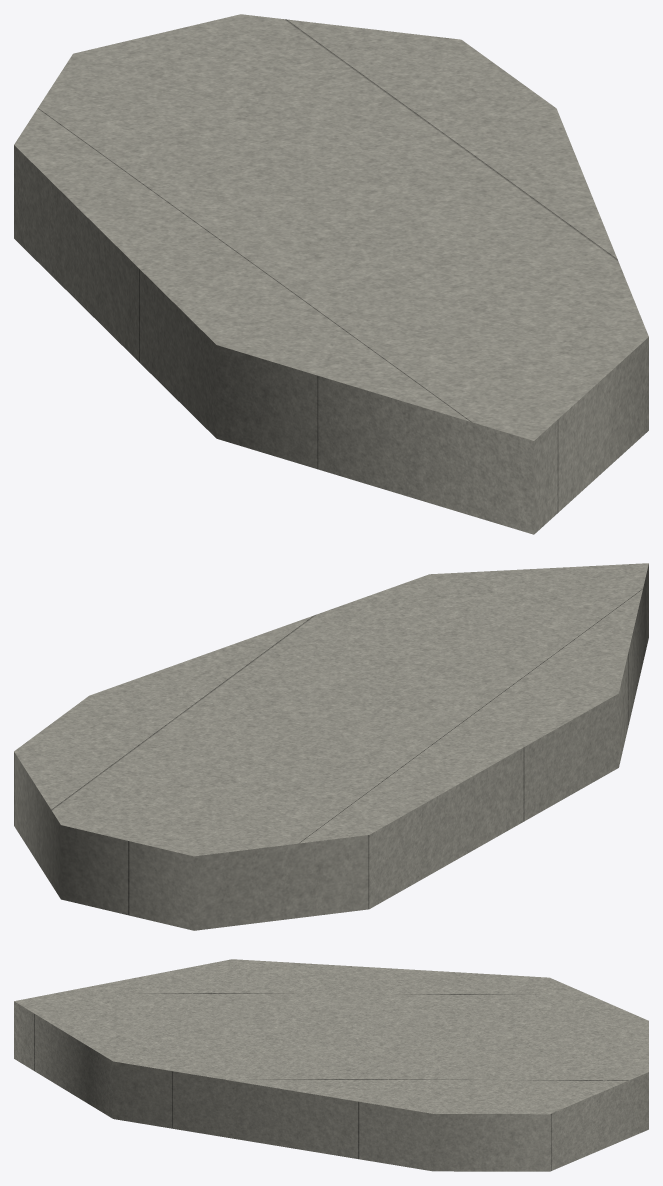
Rendered from curb_12.gltf.
3 renders of one model, top to bottom at view 1: azimuth 30°, elevation 25°; view 2: azimuth 150°, elevation 25°; view 3: azimuth 270°, elevation 25°, orthographic. The views are drawn at different scales.
Parts seen in each view (by area): view 1: curb_12.surface, curb_12.sides; view 2: curb_12.surface, curb_12.sides; view 3: curb_12.surface, curb_12.sides.
Boxes of the visible parts, box(x1,y1,x2,y2) form: curb_12.surface: box(14, 14, 648, 440); curb_12.sides: box(14, 145, 648, 534); curb_12.surface: box(14, 563, 648, 856); curb_12.sides: box(14, 564, 648, 930); curb_12.surface: box(14, 959, 648, 1114); curb_12.sides: box(14, 1001, 648, 1171).
Bounding box in the file's own units: 0.8997 × 0.1714 × 1.6.
1 material, 1 textured.
